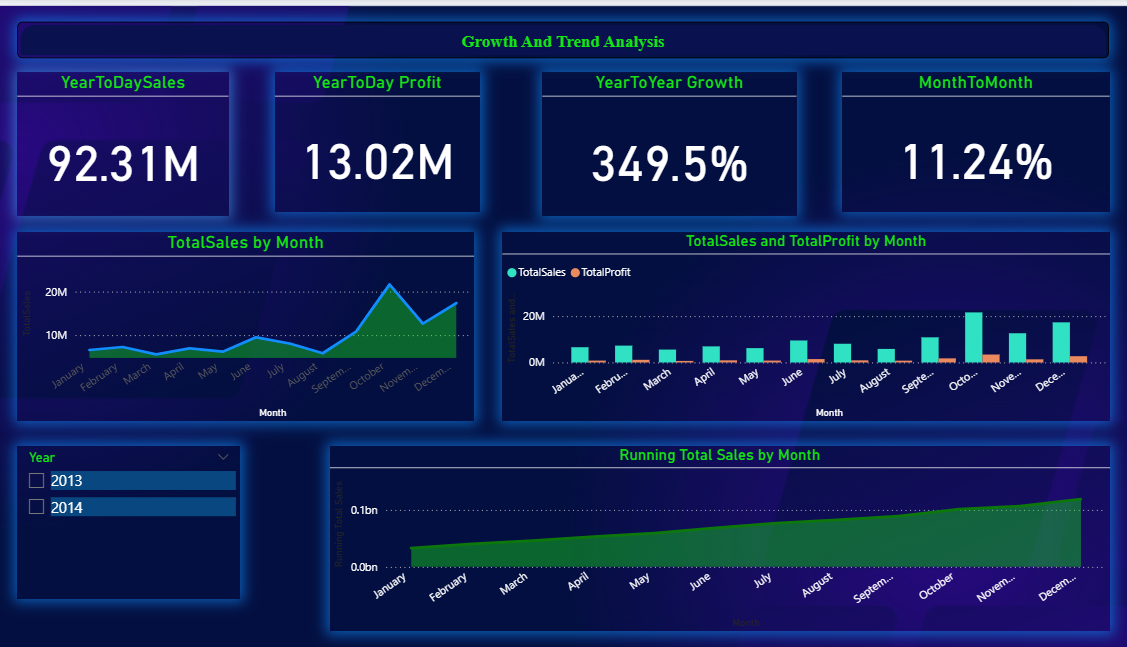

Layout of this report page (visuals, bound fields, positions):
{"tool":"powerbi","page":{"name":"Growth And Trend Analysis","canvas":[1280,720],"ordinal":3},"visuals":[{"type":"card","title":"YearToDaySales","fields":{"Values":["DAX Measures.YearToDay Sales"]},"box":[51.3,81.2,232.3,158.2],"z":0},{"type":"card","title":"YearToDay Profit","fields":{"Values":["DAX Measures.YearToDay Profit"]},"box":[333.5,81.2,225.2,153.9],"z":1000},{"type":"card","title":"YearToYear Growth","fields":{"Values":["DAX Measures.YoY Growth %"]},"box":[627.2,81.2,279.4,158.2],"z":2000},{"type":"card","title":"MonthToMonth","fields":{"Values":["DAX Measures.MoM Growth %"]},"box":[956.4,81.2,293.6,153.9],"z":3000},{"type":"lineChart","fields":{"Y":["DAX Measures.TotalSales"],"Category":["DateTable.Date.Variation.Date Hierarchy.Month"]},"box":[51.3,256.6,501.7,208.1],"z":4000},{"type":"areaChart","fields":{"Y":["DAX Measures.Running Total Sales"],"Category":["DateTable.Date.Variation.Date Hierarchy.Month"]},"box":[393.4,491.8,856.7,203.8],"z":5000},{"type":"lineClusteredColumnComboChart","fields":{"Category":["DateTable.Date.Variation.Date Hierarchy.Month"],"Y":["DAX Measures.TotalSales","DAX Measures.TotalProfit"]},"box":[583,256.6,667.1,208.1],"z":6000},{"type":"slicer","fields":{"Values":["DateTable.Date.Variation.Date Hierarchy.Year"]},"box":[51.3,491.8,245.2,168.2],"z":7000},{"type":"shape","box":[51.3,25.7,1198.8,39.9],"z":7001}]}

Visuals, with their boxes in screenshot pixels (x1, y1, x2, y2), scaled from the page's 1280x720 canvas onto the 1127x647 screenshot:
"YearToDaySales" card: locate(45, 73, 250, 215)
"YearToDay Profit" card: locate(294, 73, 492, 211)
"YearToYear Growth" card: locate(552, 73, 798, 215)
"MonthToMonth" card: locate(842, 73, 1101, 211)
lineChart - DAX Measures.TotalSales x DateTable.Date.Variation.Date Hierarchy.Month: locate(45, 231, 487, 418)
areaChart - DAX Measures.Running Total Sales x DateTable.Date.Variation.Date Hierarchy.Month: locate(346, 442, 1101, 625)
lineClusteredColumnComboChart - DateTable.Date.Variation.Date Hierarchy.Month x DAX Measures.TotalSales: locate(513, 231, 1101, 418)
slicer - DateTable.Date.Variation.Date Hierarchy.Year: locate(45, 442, 261, 593)
shape: locate(45, 23, 1101, 59)
